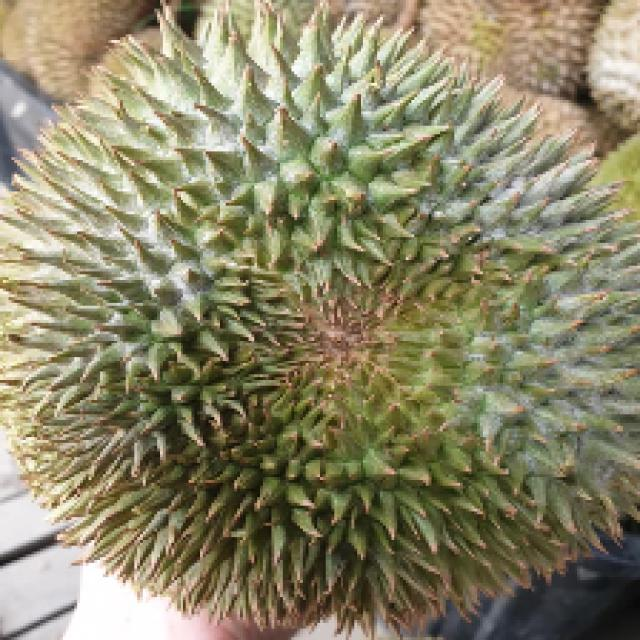d101: (12, 33, 621, 632)
